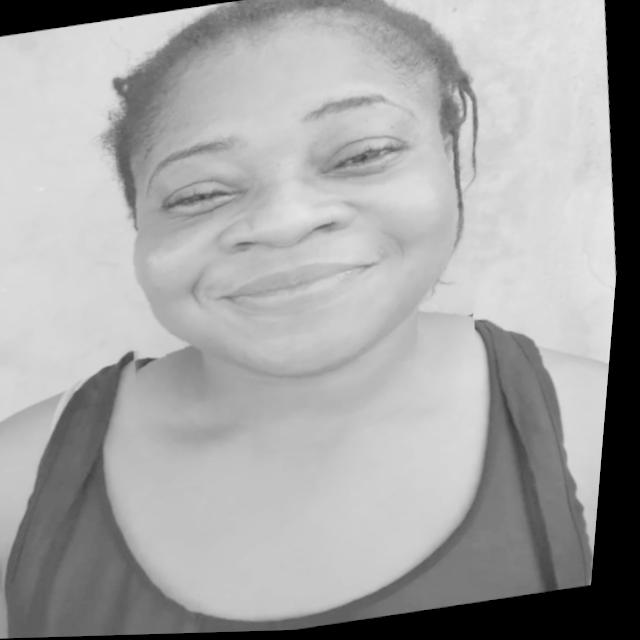happy: (82, 0, 501, 413)
